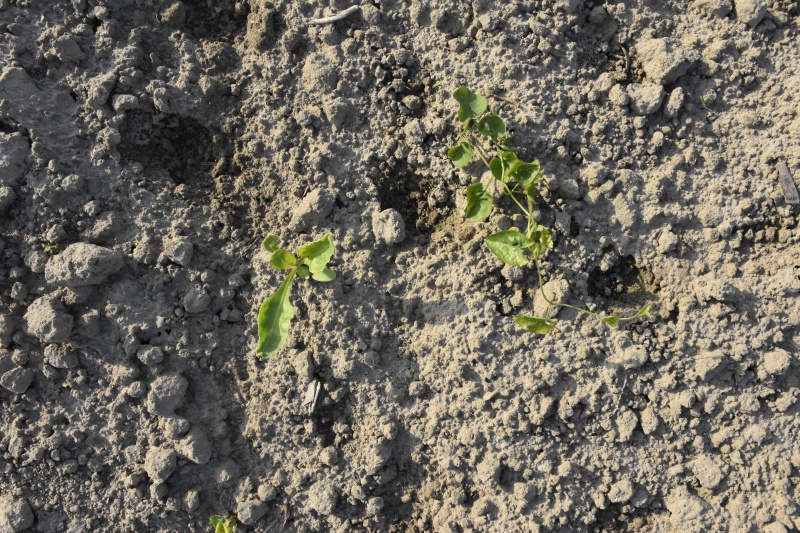field bindweed: (451, 84, 654, 334)
sugar beet: (239, 222, 339, 357)
